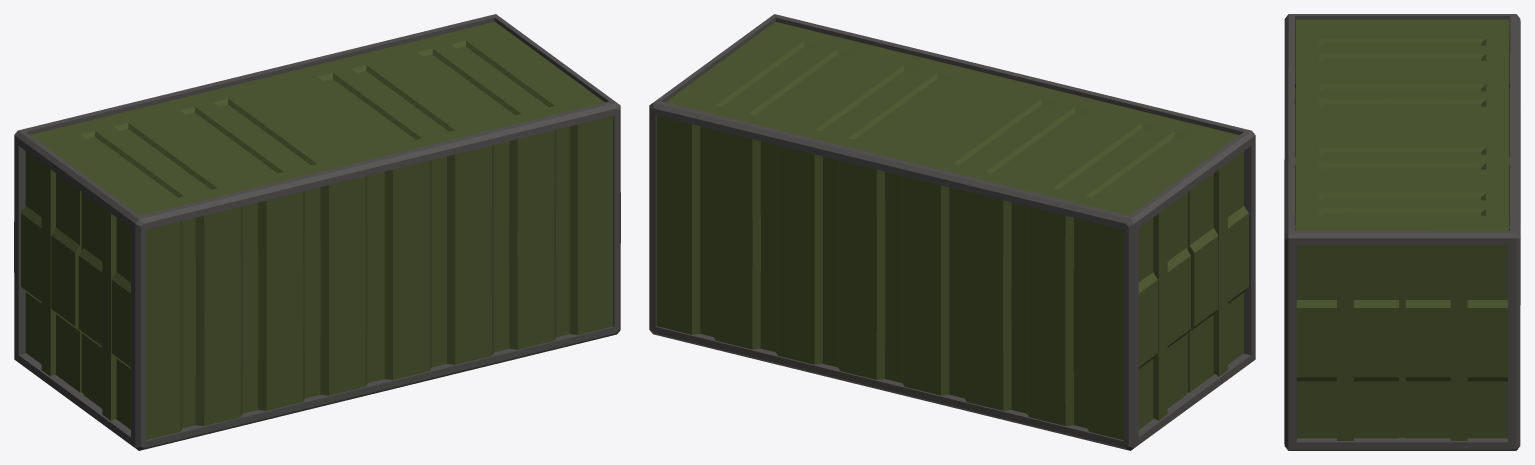
Rendered from container-green.glb.
The picture shows the model from 3 angles, left to right: view 1: azimuth 30°, elevation 25°; view 2: azimuth 150°, elevation 25°; view 3: azimuth 270°, elevation 25°; orthographic projection. The views are drawn at different scales.
Parts seen in each view (by area): view 1: Container_Green; view 2: Container_Green; view 3: Container_Green.
Part boxes in pixels (x1,y1,x2,y2): Container_Green: [14, 14, 620, 450]; Container_Green: [649, 14, 1255, 450]; Container_Green: [1284, 14, 1520, 450].
Size of the model in its own units: 5.71 by 2.6 by 2.56.
